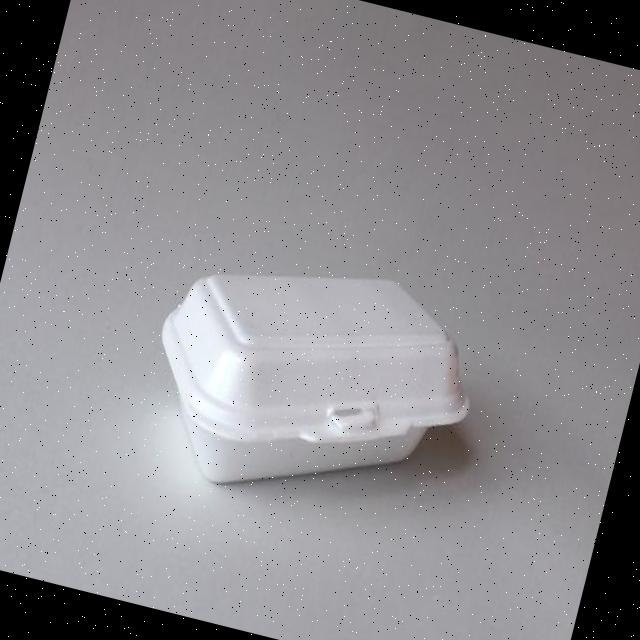styrofoam: (128, 224, 496, 538)
